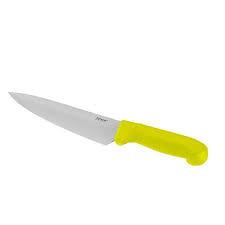Knife: (7, 90, 208, 166)
